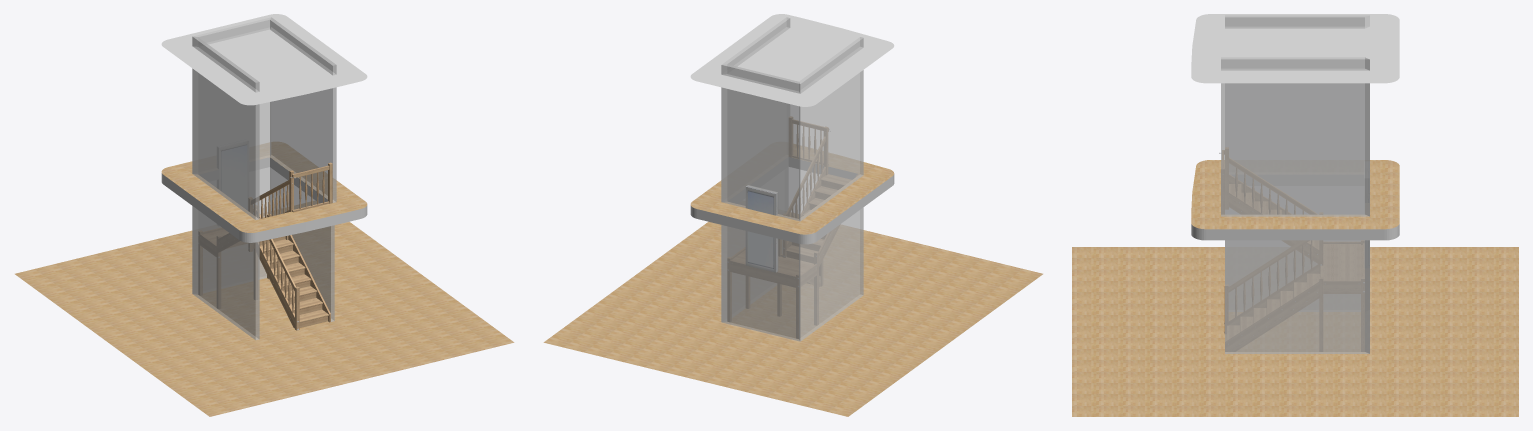
3 renders of one model, left to right at view 1: azimuth 30°, elevation 25°; view 2: azimuth 150°, elevation 25°; view 3: azimuth 270°, elevation 25°, orthographic. The views are drawn at different scales.
Parts seen in each view (by area): view 1: StairCon (×9); view 2: StairCon (×10); view 3: StairCon (×14).
Boxes of the visible parts, bbox=[...] form: StairCon (×9): bbox=[15, 14, 514, 416]; StairCon (×10): bbox=[543, 14, 1042, 416]; StairCon (×14): bbox=[1072, 14, 1518, 416].
Size of the model in its own units: 8.1 by 8.99 by 6.54.
15 materials, 9 textured.
